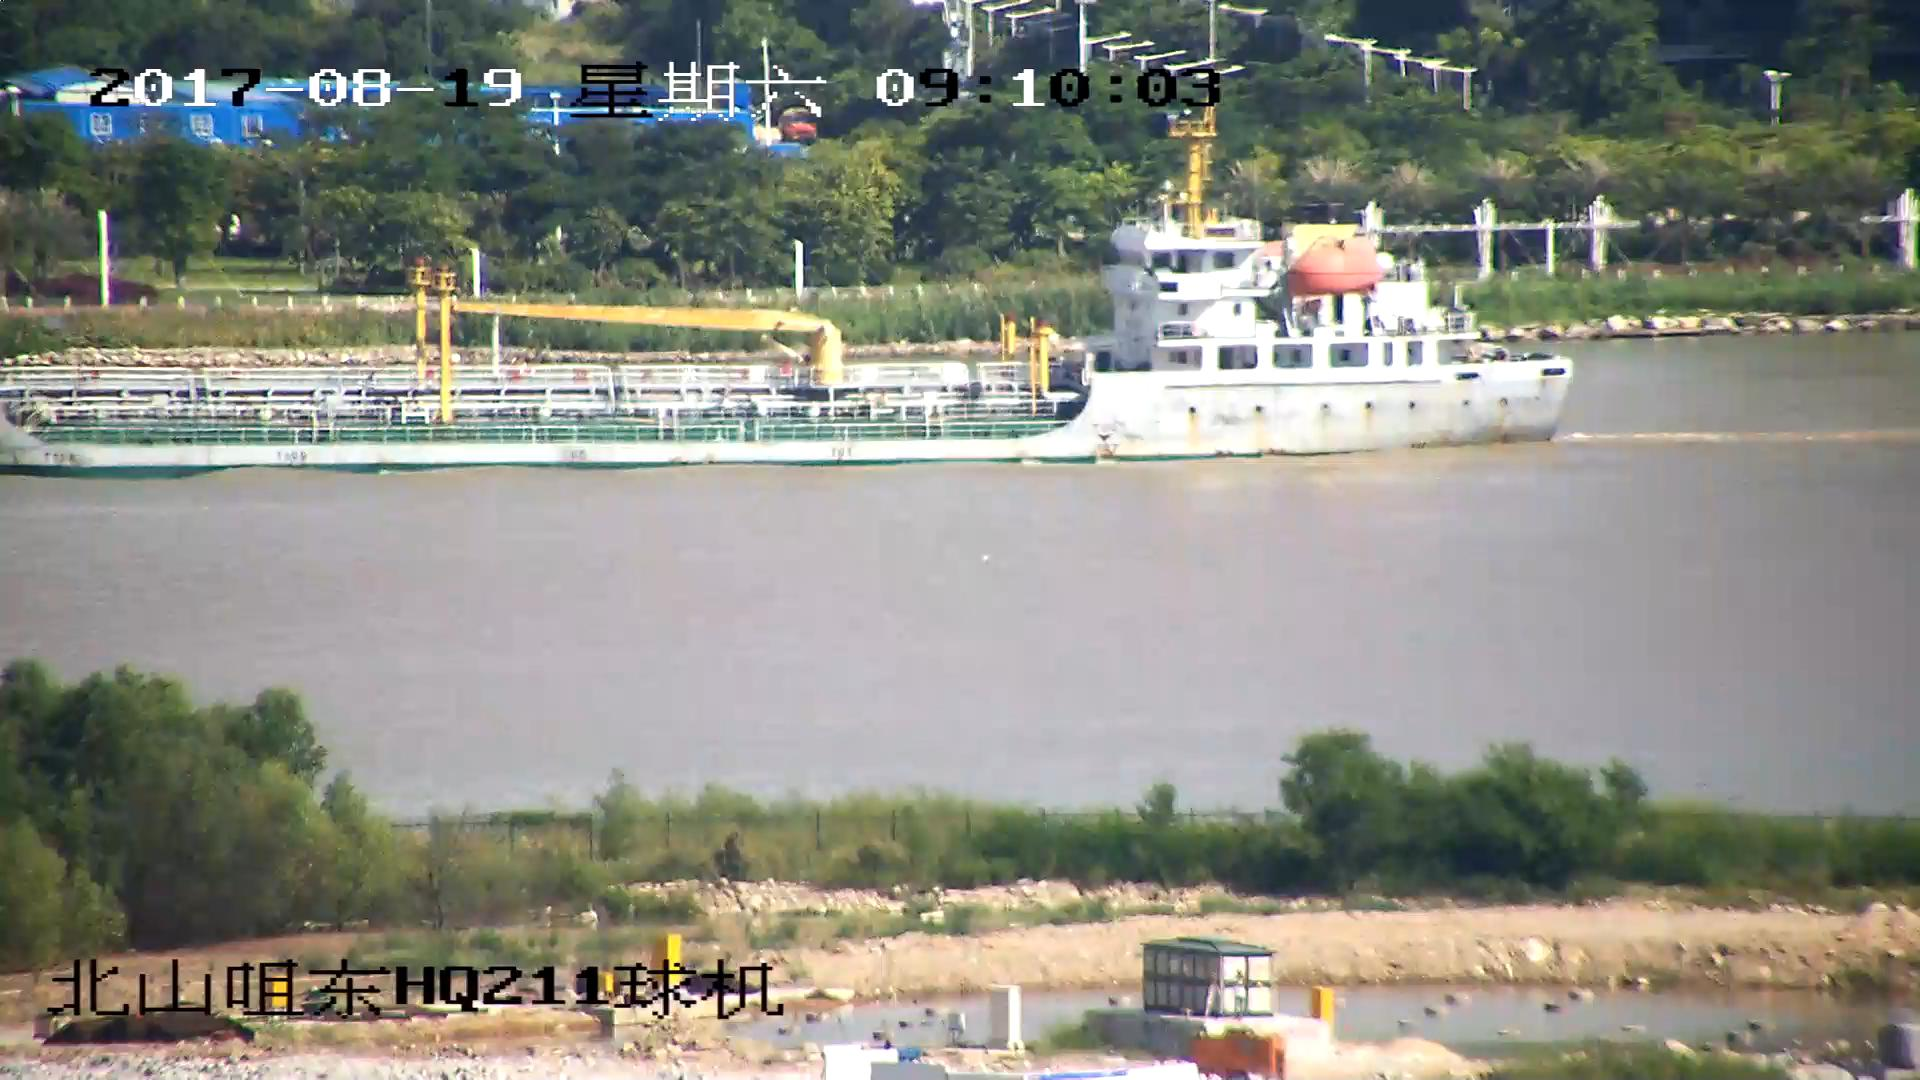general cargo ship: (1, 118, 1579, 464)
